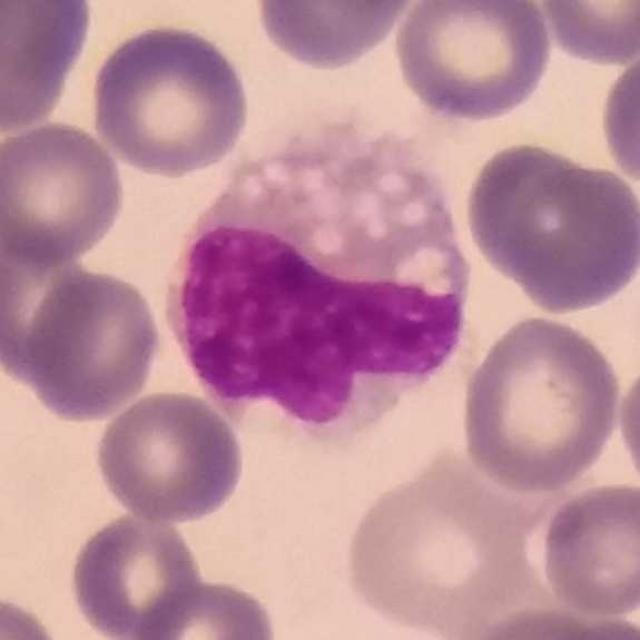mono: (161, 122, 471, 459)
